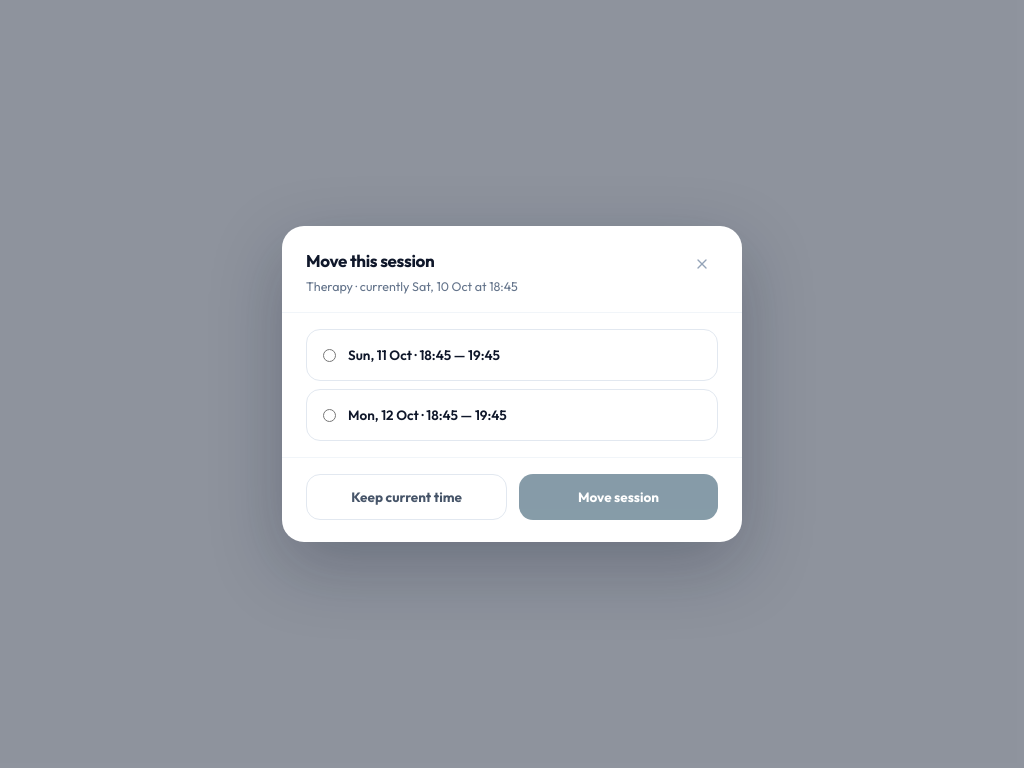
Test case: RescheduleDialog › when the server refuses › reports a slot taken mid-choice and reloads the list
This screenshot has width=1024, height=768.
Click the radio button labelled "Sun, 11 Oct · 18:45 — 19:45": coordinates (330, 355) [323,349,336,362]
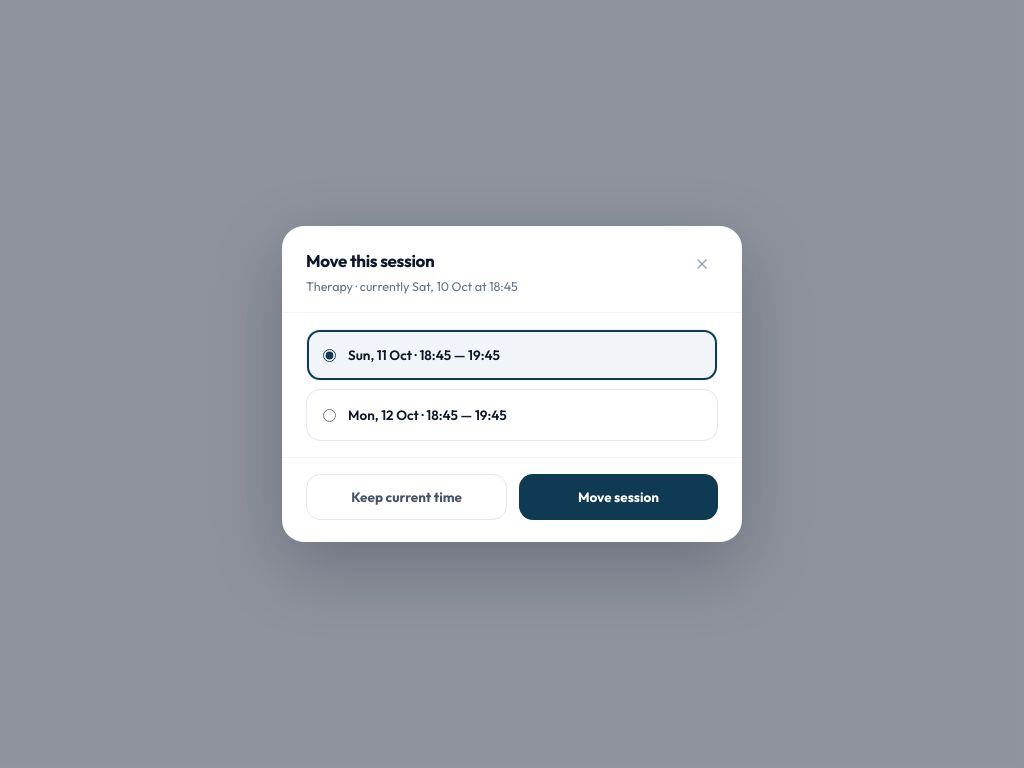
Click the button "Move session": coordinates (618, 497) [519,474,718,520]
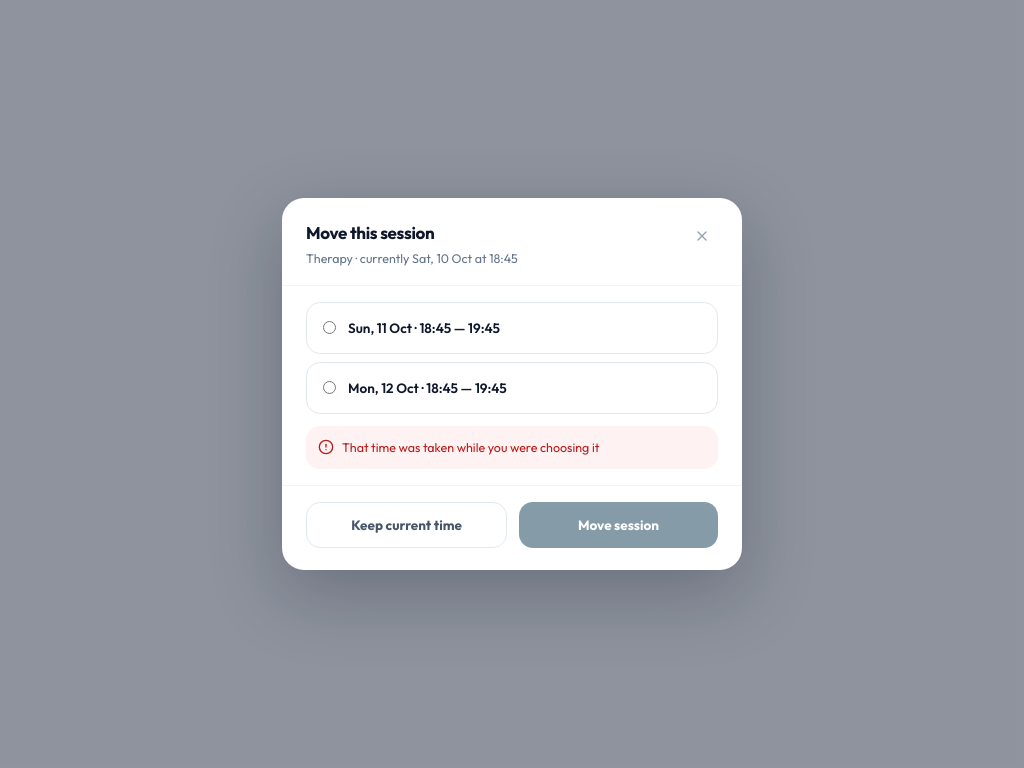
Result: the message "That time was taken while you were choosing it" is shown at [306,426,718,469]
Result: the text "That time was taken while you were choosing it" is shown at [342,438,599,457]
